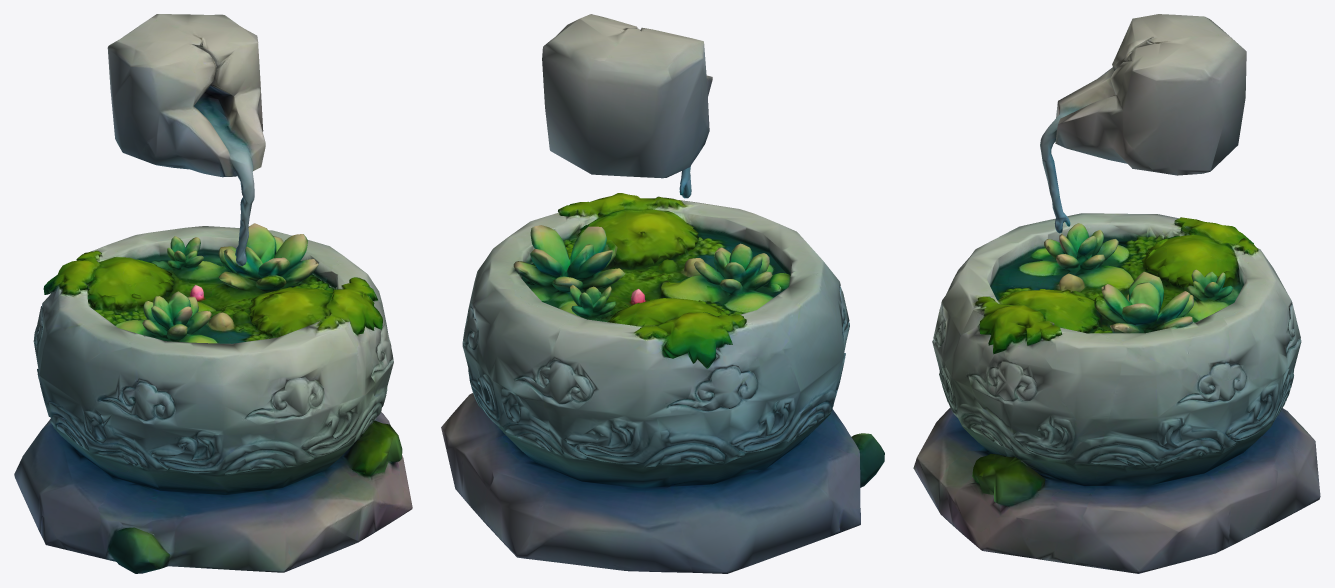
The model's file is water_nourish_t1.glb.
The picture shows the model from 3 angles, left to right: view 1: azimuth 30°, elevation 25°; view 2: azimuth 150°, elevation 25°; view 3: azimuth 270°, elevation 25°; orthographic projection. The views are drawn at different scales.
Parts seen in each view (by area): view 1: tripo_node_9d41ab41-7064-4956-9026-03c0e319d89c; view 2: tripo_node_9d41ab41-7064-4956-9026-03c0e319d89c; view 3: tripo_node_9d41ab41-7064-4956-9026-03c0e319d89c.
Boxes of the visible parts, x1,y1,x2,y2 form: tripo_node_9d41ab41-7064-4956-9026-03c0e319d89c: [14, 14, 412, 573]; tripo_node_9d41ab41-7064-4956-9026-03c0e319d89c: [441, 14, 884, 573]; tripo_node_9d41ab41-7064-4956-9026-03c0e319d89c: [913, 14, 1320, 573].
Size of the model in its own units: 0.8363 by 0.9799 by 0.8073.
Materials: 1 (1 with a texture image).
